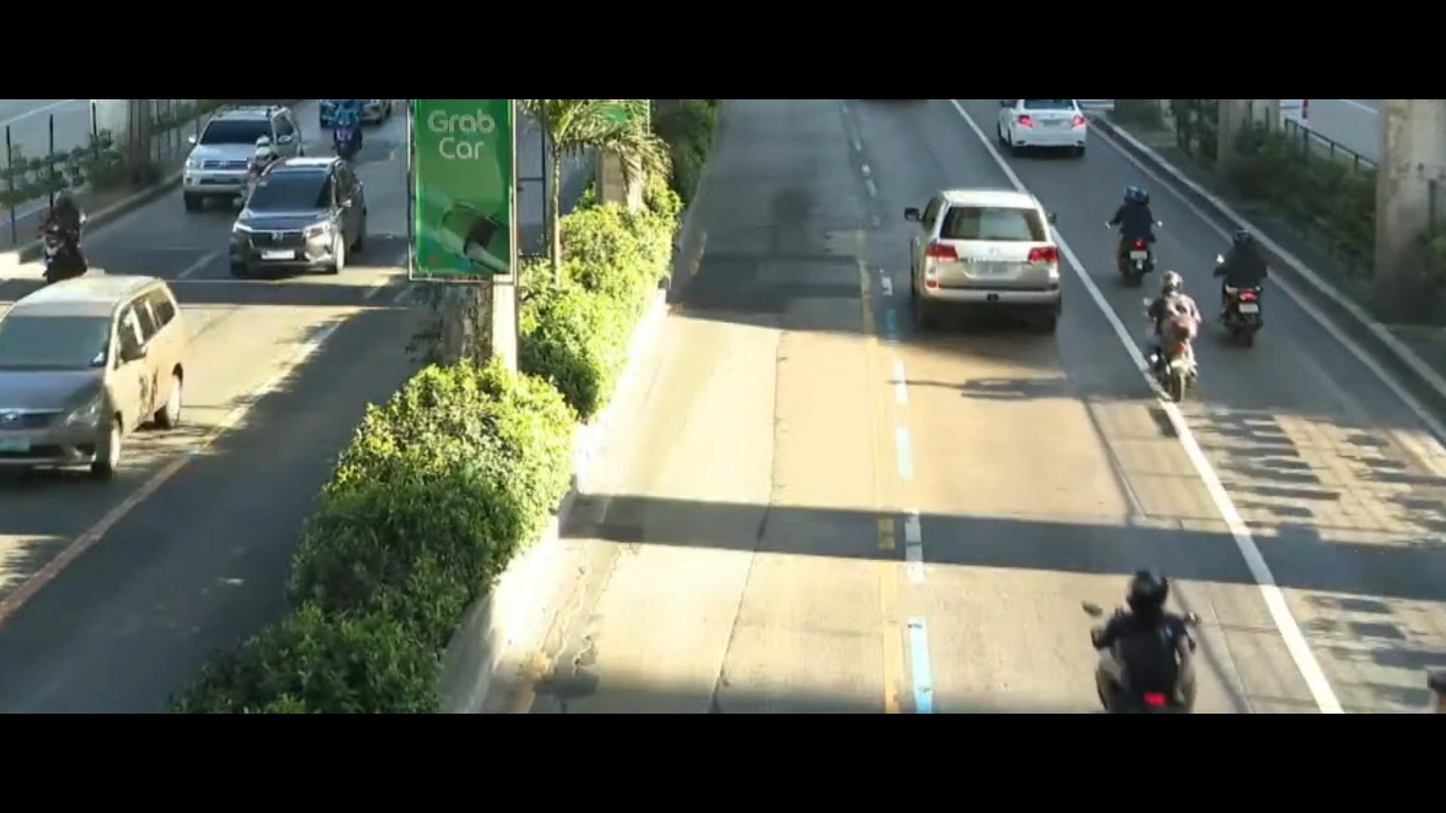Motorcycle: (1077, 557, 1254, 712), (1132, 257, 1224, 448), (1094, 177, 1175, 301), (26, 194, 130, 289), (1210, 226, 1287, 351), (331, 96, 390, 156)
SUV: (0, 253, 209, 504), (888, 168, 1074, 336), (212, 140, 386, 287), (162, 102, 294, 215)
Sedan: (990, 96, 1102, 152)
